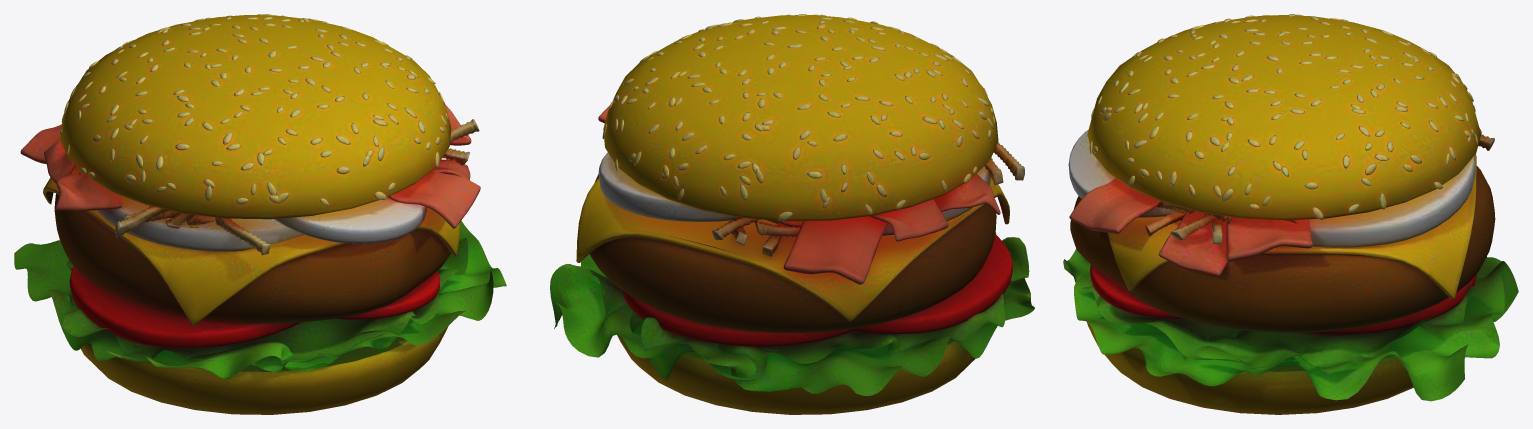
Rendered from burger.glb.
The picture shows the model from 3 angles, left to right: view 1: azimuth 30°, elevation 25°; view 2: azimuth 150°, elevation 25°; view 3: azimuth 270°, elevation 25°; orthographic projection.
Visible parts, largest first — view 1: Object001, Object002; view 2: Object001, Object002; view 3: Object001, Object002.
Part boxes in pixels (box(x1,y1,x2,y2)): Object001: box(20, 14, 480, 372); Object002: box(14, 166, 506, 414); Object001: box(576, 14, 1024, 380); Object002: box(550, 174, 1034, 414); Object001: box(1063, 14, 1518, 374); Object002: box(1070, 166, 1504, 414).
Size of the model in its own units: 9.26 by 6.49 by 9.09.
Materials: 2 (2 with a texture image).
